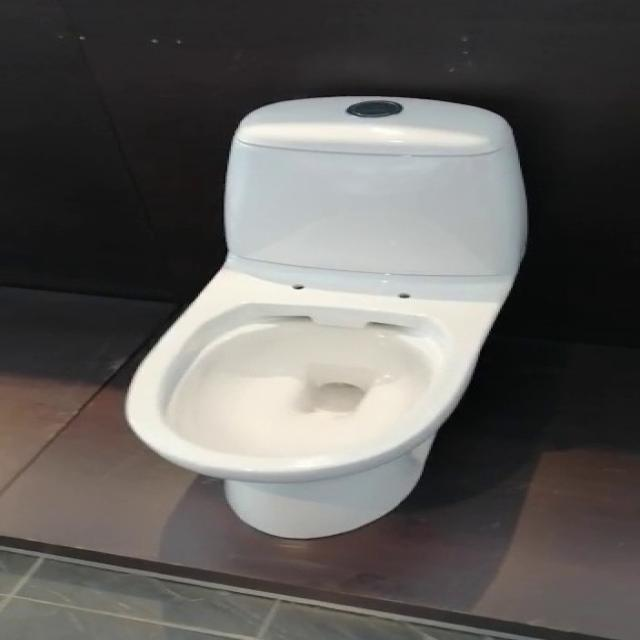toilet: (122, 94, 527, 539)
